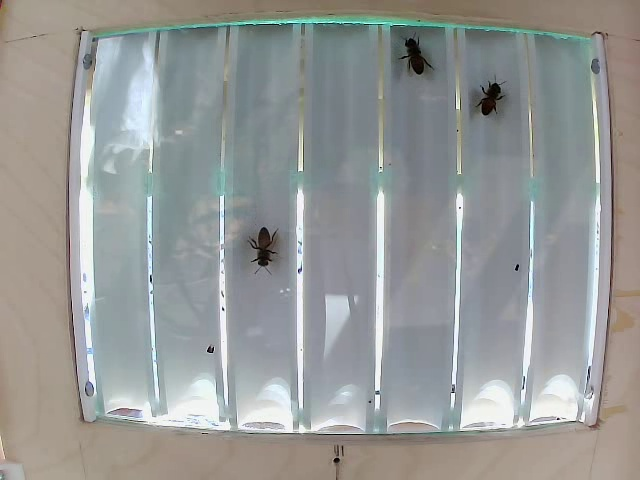bee: (244, 219, 288, 272), (399, 36, 433, 77), (474, 80, 503, 117)
